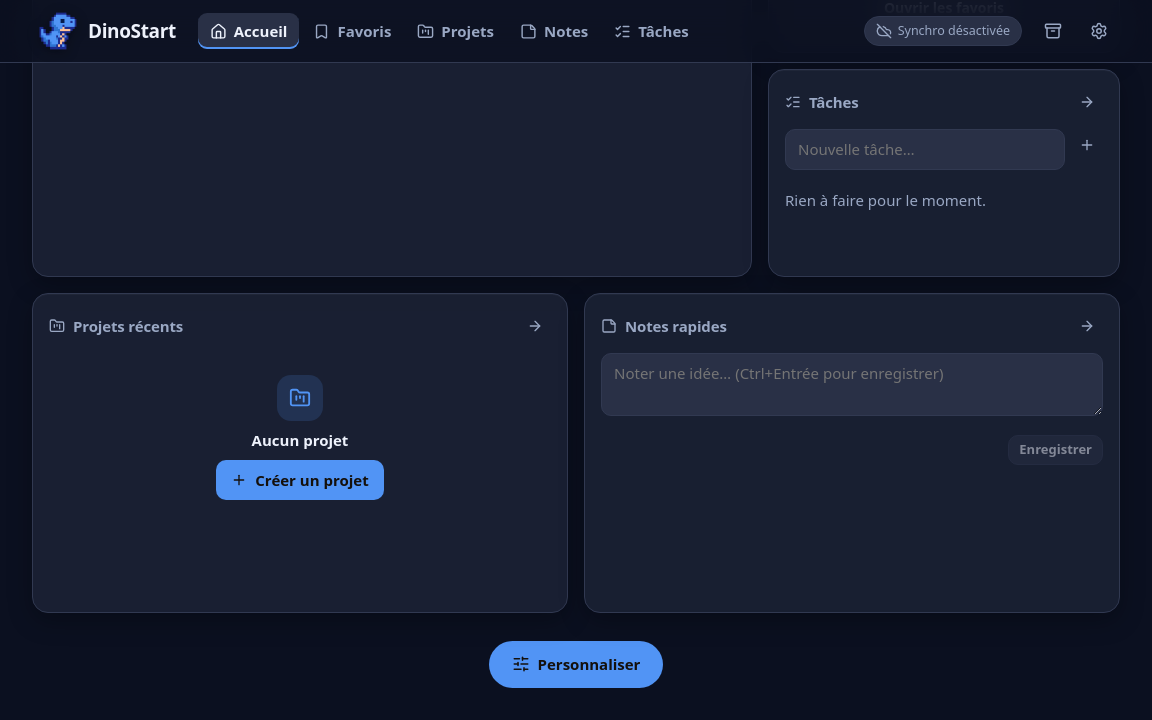
Scenario: interface DinoStart (rendu réel dans jsdom) › enregistre une note rapide
(page scrolled)
Type "Idée de projet" into the text box named "Nouvelle note rapide" at (852, 385), box [601,353,1103,416]
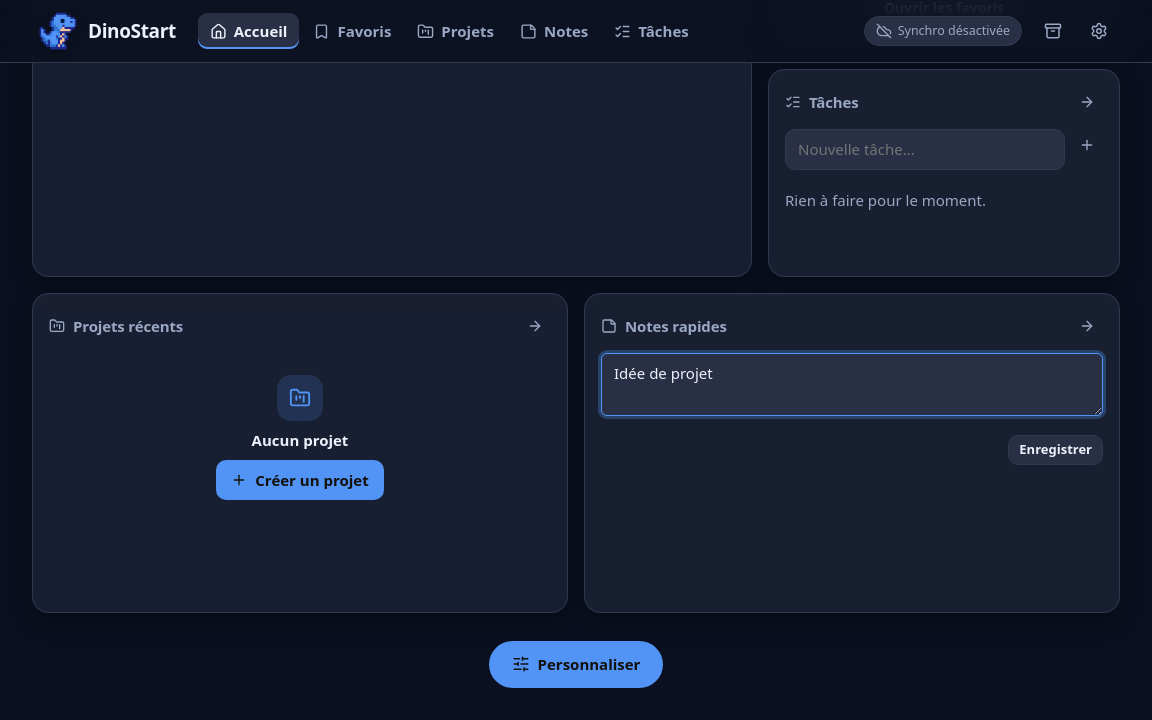
Click the button "Enregistrer" at (1056, 450), box [1008,435,1103,465]
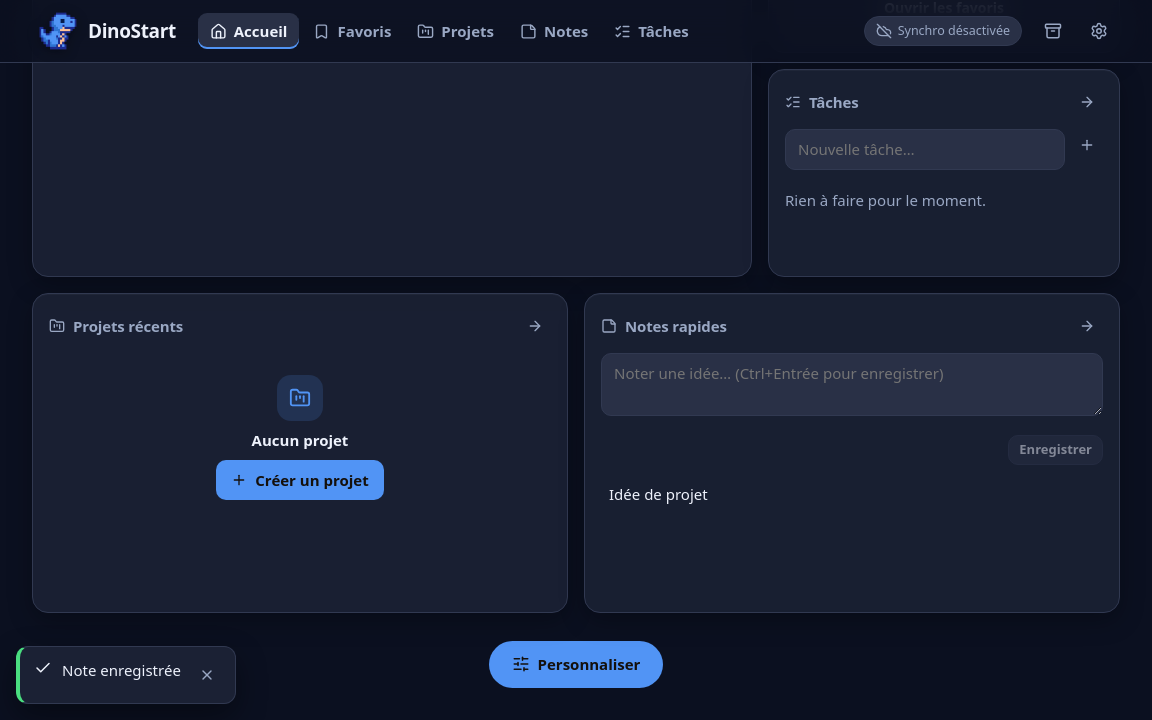
Now the text "Idée de projet" is shown, box [609,484,708,504]
